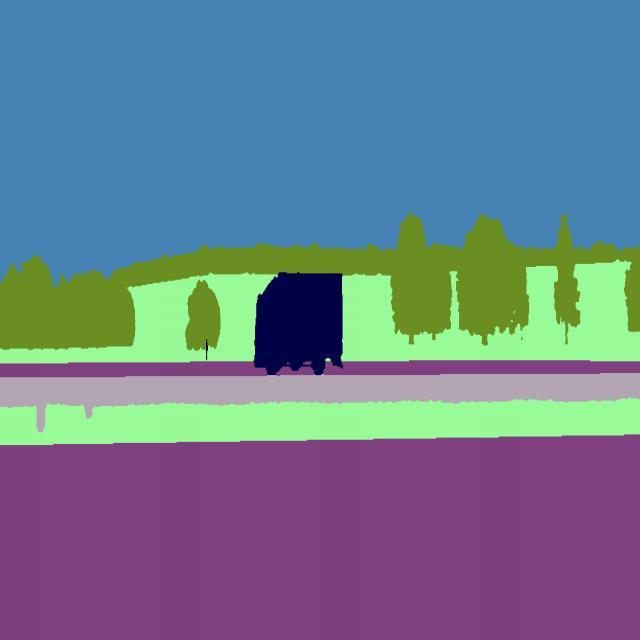safe: (252, 270, 351, 379)
